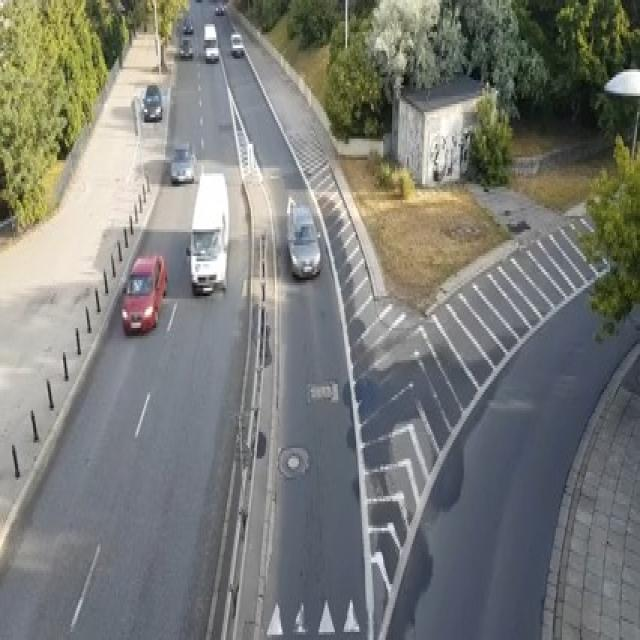bus: (186, 168, 228, 293)
car: (120, 254, 167, 334), (285, 195, 320, 277), (170, 144, 195, 184), (141, 83, 162, 120), (203, 22, 219, 62), (179, 34, 192, 59), (230, 32, 243, 56), (182, 16, 192, 32), (215, 3, 224, 16)
